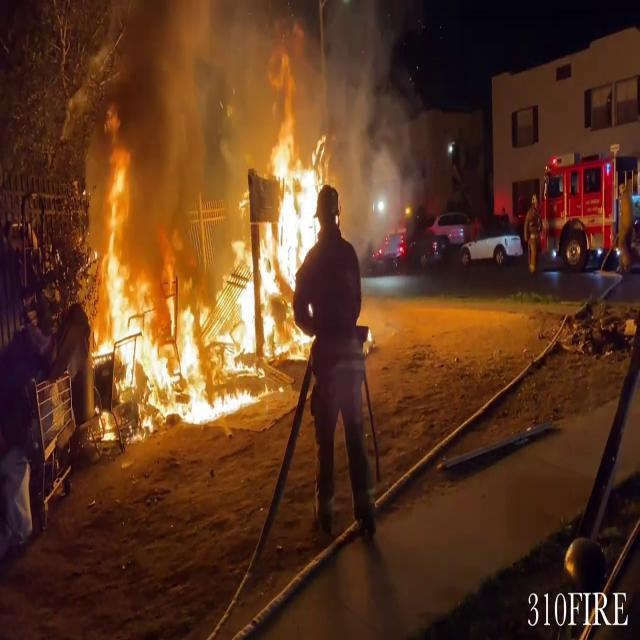Fire: (82, 21, 338, 432)
Smoke: (305, 2, 429, 248)
